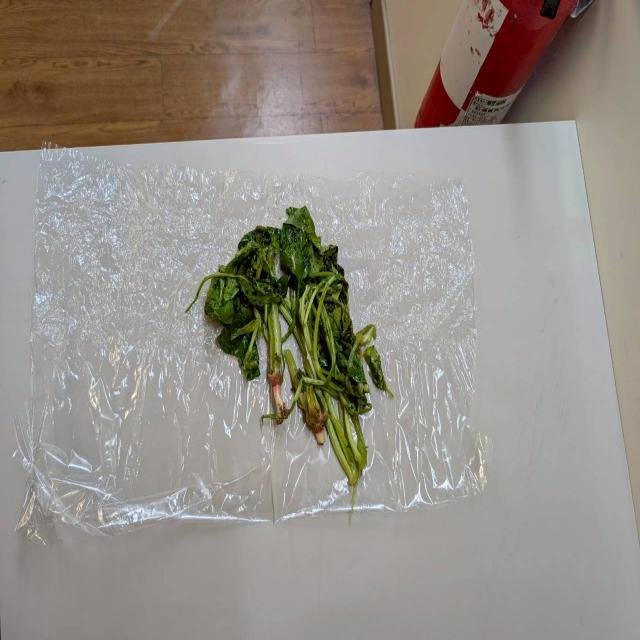rotten spinach: (197, 183, 379, 482), (194, 203, 381, 480), (257, 218, 378, 490), (207, 231, 336, 384), (255, 268, 353, 453)
